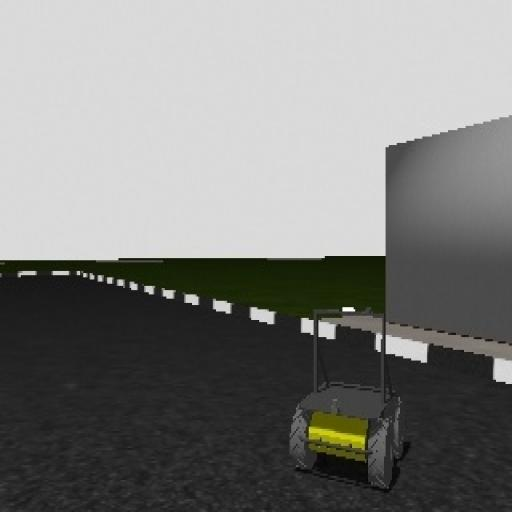huskya200: (272, 303, 412, 493)
